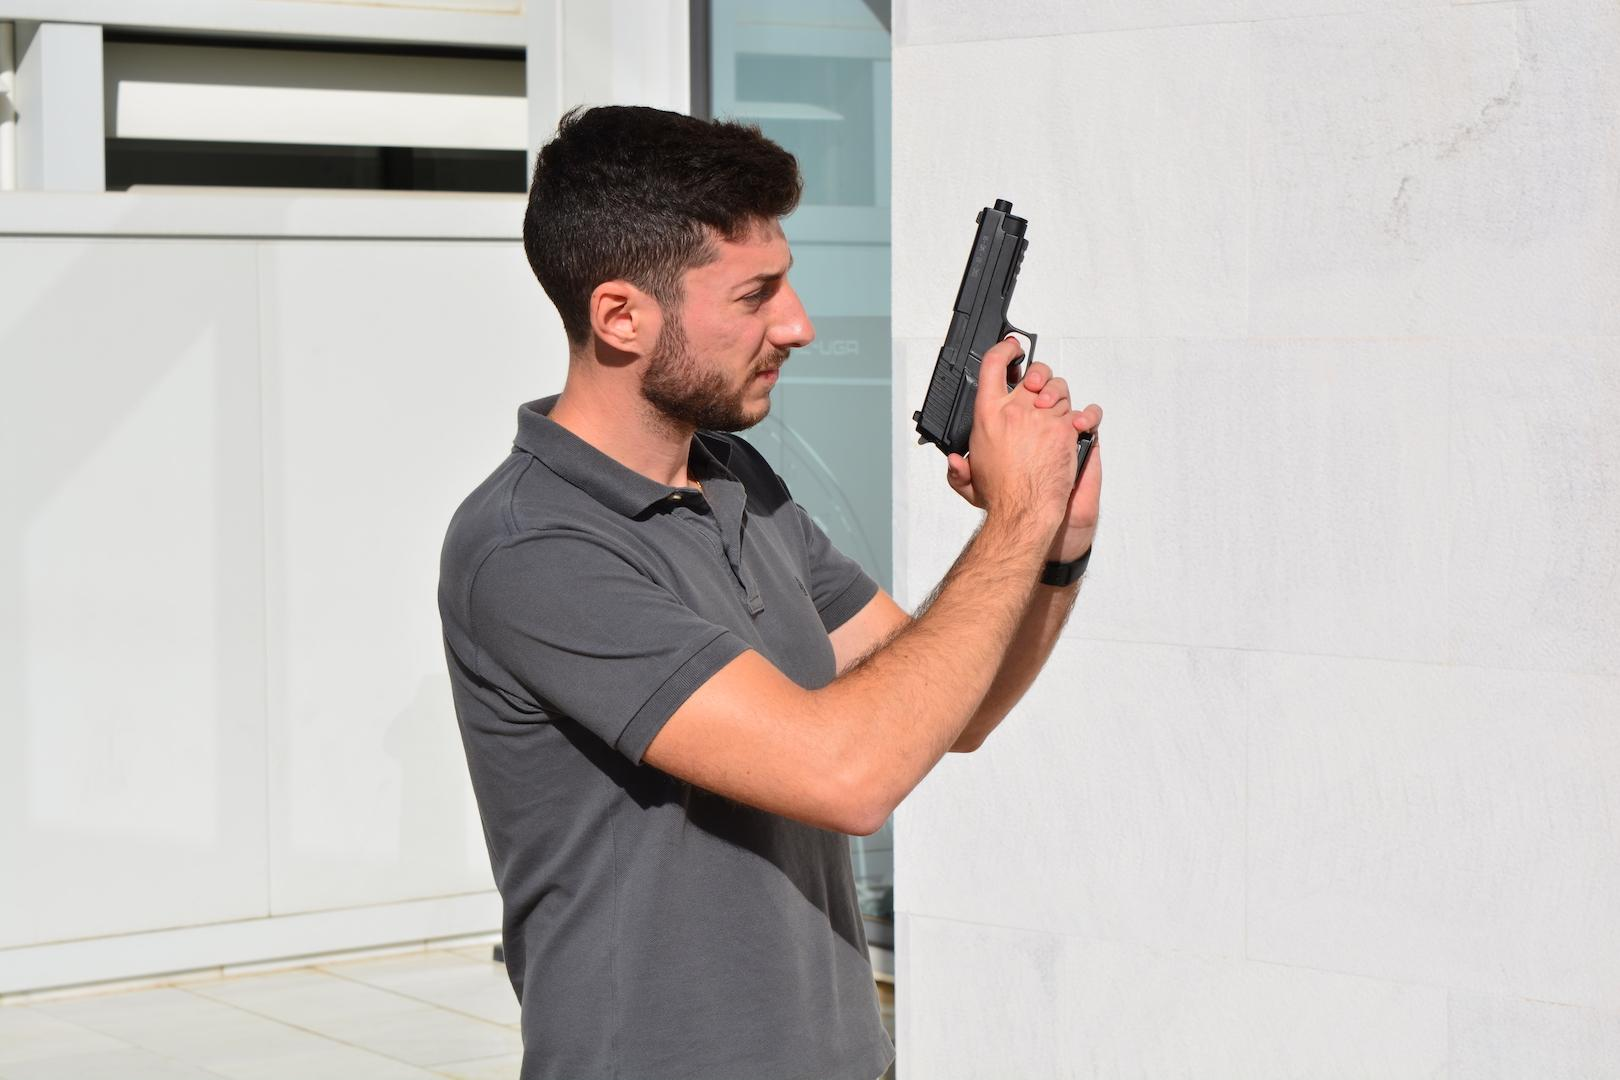criminal: (438, 102, 1102, 1080)
weapon: (910, 198, 1100, 481)
